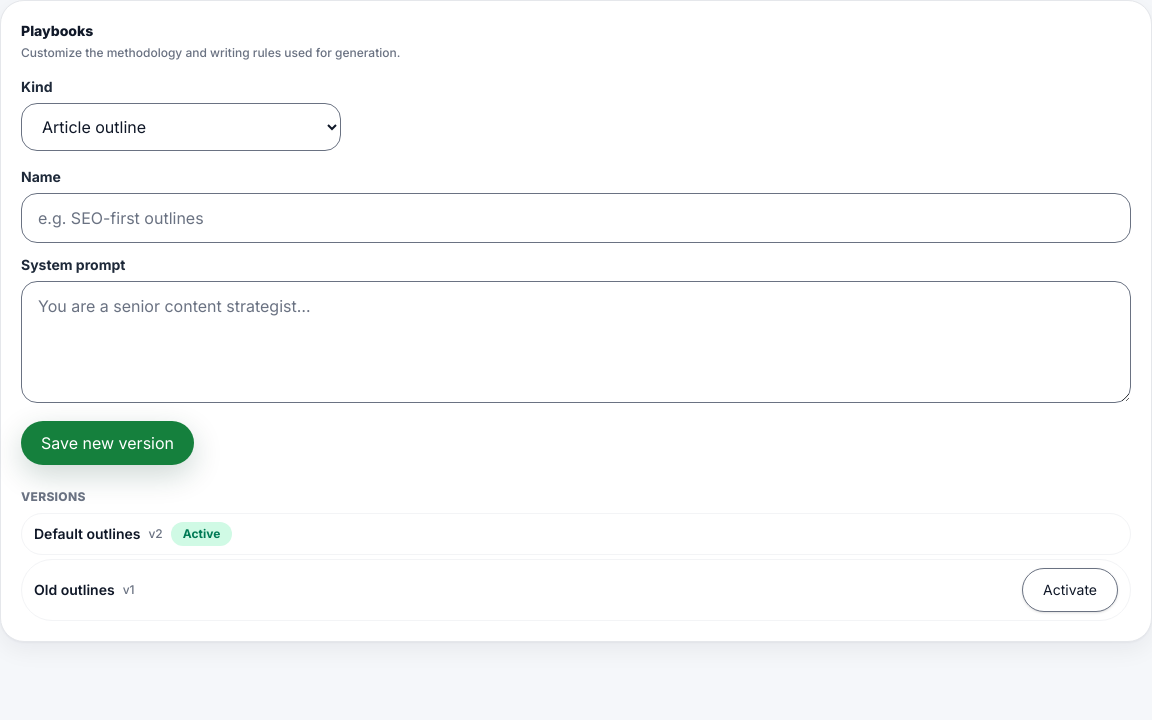
it: PlaybooksCard › shows the backend error when activation is rejected
The image size is (1152, 720).
Expected: the text "Old outlines" is shown, [34,580,115,600]
Click the button "Activate" at x=1070, y=590, box [1022,568,1118,612]
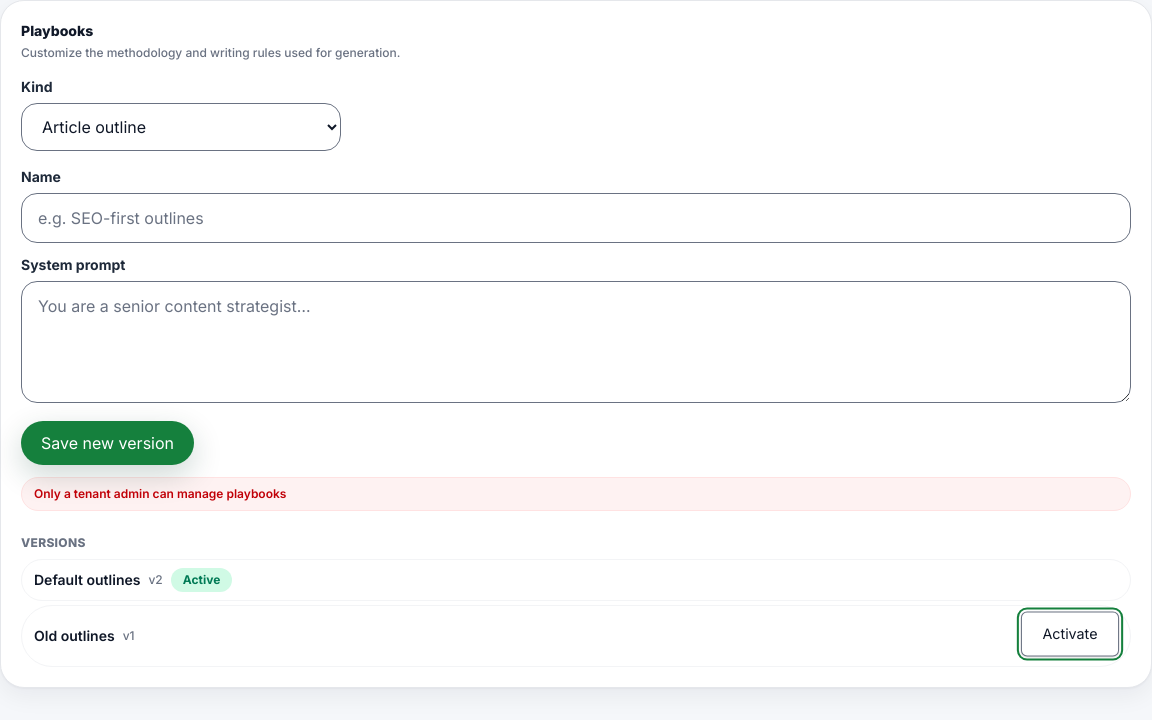
Now the text "Only a tenant admin can manage playbooks" is shown, box [21,477,1131,511]
